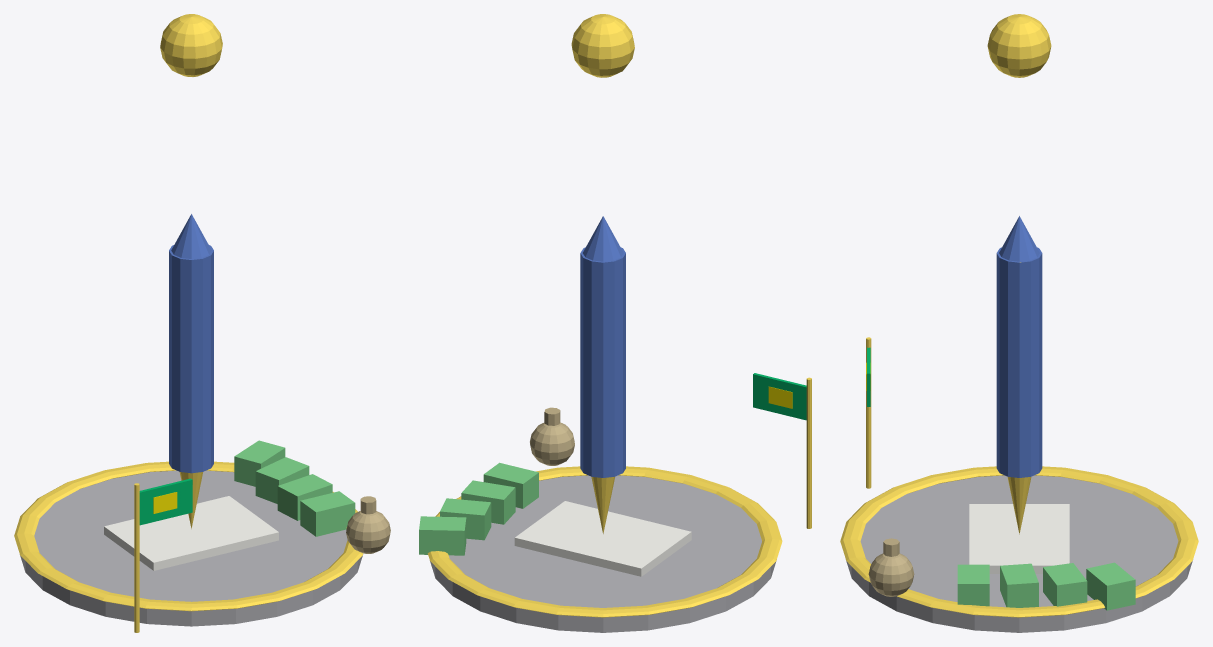
The model's file is Caneta_L4.fbx.
3 views of the same model, side by side, from view 1: azimuth 30°, elevation 25°; view 2: azimuth 150°, elevation 25°; view 3: azimuth 270°, elevation 25° (orthographic).
Visible parts, largest first — view 1: Caneta_L4.001; view 2: Caneta_L4.001; view 3: Caneta_L4.001.
Boxes of the visible parts, x1,y1,x2,y2 form: Caneta_L4.001: (14,14,390,632); Caneta_L4.001: (419,14,811,632); Caneta_L4.001: (840,14,1198,632).
Bounding box in the file's own units: 3.92 × 6.55 × 3.92.
